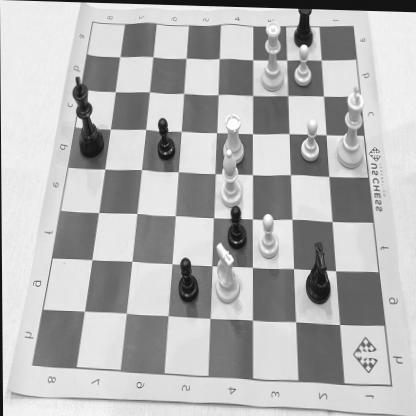black-king: (68, 72, 106, 160)
black-knight: (303, 234, 339, 306)
black-pawn: (224, 198, 249, 250), (174, 254, 200, 304), (154, 114, 178, 164)
black-rook: (291, 7, 316, 51)
white-bishop: (218, 145, 245, 210)
white-king: (334, 78, 370, 171)
white-knight: (209, 239, 242, 304)
white-pawn: (256, 206, 280, 263), (297, 112, 324, 162), (291, 42, 313, 88)
white-queen: (256, 15, 286, 94)
white-rook: (218, 107, 248, 166)
